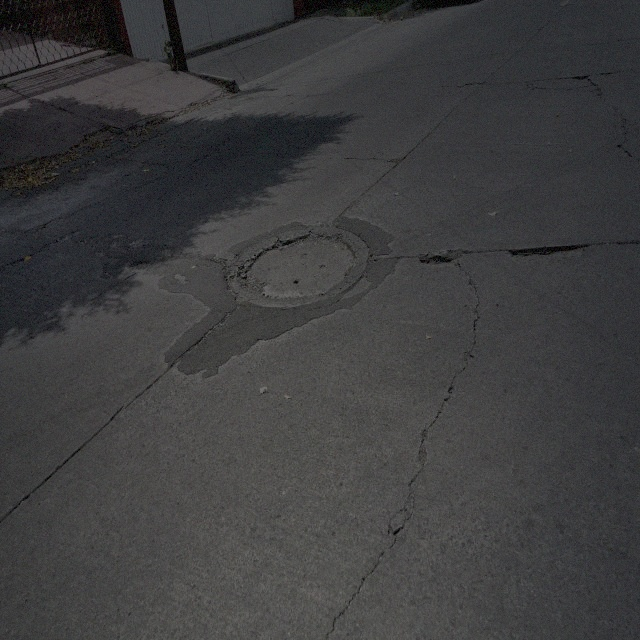pothole: (508, 238, 587, 264), (90, 230, 144, 262), (217, 260, 242, 305), (421, 251, 455, 267), (57, 227, 79, 243), (128, 262, 150, 274)
